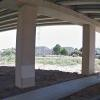Bridge: (9, 1, 95, 58)
